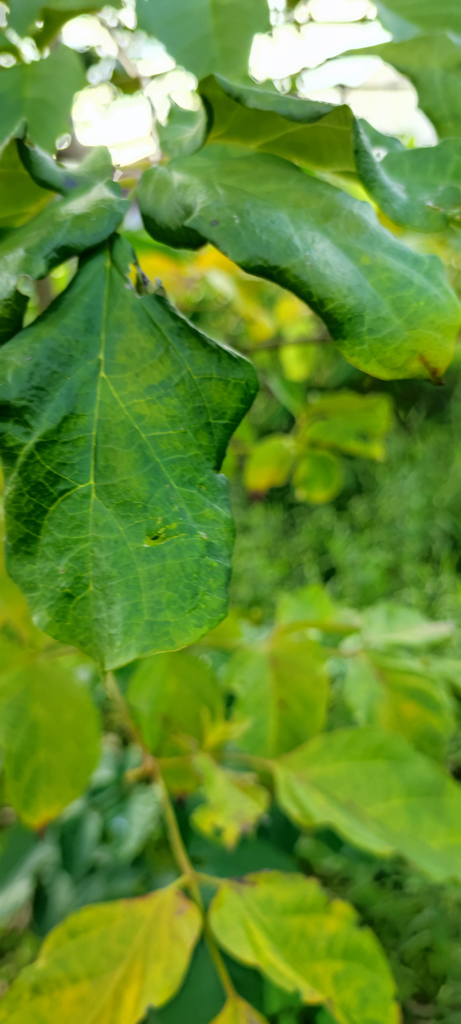Pepper yellow leaf: (27, 879, 208, 1020)
